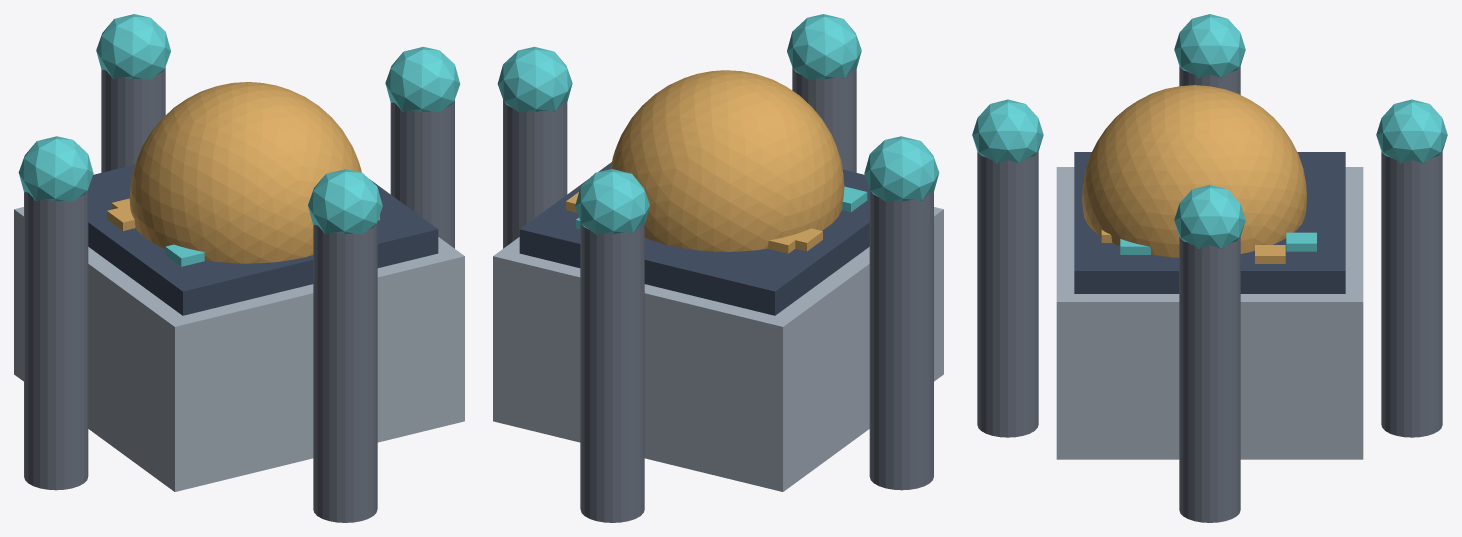
The model's file is repositor-automatico.glb.
3 renders of one model, left to right at view 1: azimuth 30°, elevation 25°; view 2: azimuth 150°, elevation 25°; view 3: azimuth 270°, elevation 25°, orthographic. The views are drawn at different scales.
Parts seen in each view (by area): view 1: part000, part002, part006, part008, part001, part004, part010, part005, part007, part011, part009, part018; view 2: part000, part002, part010, part008, part001, part004, part005, part011, part007, part009, part006, part013; view 3: part000, part002, part006, part010, part004, part001, part007, part011, part009, part005, part008, part015 (+1 smaller).
Part boxes in pixels (x1=…): part000: x1=14, y1=207, x2=464, y2=491; part002: x1=129, y1=82, x2=361, y2=263; part006: x1=313, y1=221, x2=377, y2=522; part008: x1=24, y1=189, x2=88, y2=490; part001: x1=88, y1=164, x2=438, y2=315; part004: x1=390, y1=100, x2=454, y2=248; part010: x1=101, y1=67, x2=165, y2=172; part005: x1=385, y1=46, x2=460, y2=112; part007: x1=308, y1=169, x2=382, y2=234; part011: x1=96, y1=14, x2=170, y2=79; part009: x1=18, y1=136, x2=93, y2=201; part018: x1=165, y1=244, x2=204, y2=266; part000: x1=493, y1=207, x2=943, y2=491; part002: x1=610, y1=70, x2=844, y2=251; part010: x1=580, y1=221, x2=644, y2=522; part008: x1=869, y1=189, x2=933, y2=490; part001: x1=519, y1=162, x2=869, y2=315; part004: x1=503, y1=100, x2=567, y2=248; part005: x1=497, y1=46, x2=572, y2=112; part011: x1=575, y1=169, x2=649, y2=234; part007: x1=787, y1=14, x2=861, y2=79; part009: x1=864, y1=136, x2=939, y2=201; part006: x1=792, y1=67, x2=856, y2=172; part013: x1=784, y1=228, x2=822, y2=251; part000: x1=1056, y1=167, x2=1363, y2=459; part002: x1=1082, y1=85, x2=1306, y2=257; part006: x1=977, y1=151, x2=1038, y2=437; part010: x1=1381, y1=151, x2=1442, y2=437; part004: x1=1179, y1=237, x2=1240, y2=522; part001: x1=1074, y1=152, x2=1345, y2=293; part007: x1=972, y1=99, x2=1043, y2=163; part011: x1=1376, y1=99, x2=1447, y2=163; part009: x1=1174, y1=14, x2=1245, y2=78; part005: x1=1174, y1=185, x2=1245, y2=248; part008: x1=1179, y1=66, x2=1240, y2=94; part015: x1=1286, y1=232, x2=1316, y2=251.
Bounding box in the file's own units: 1.86 × 1.42 × 1.86.
